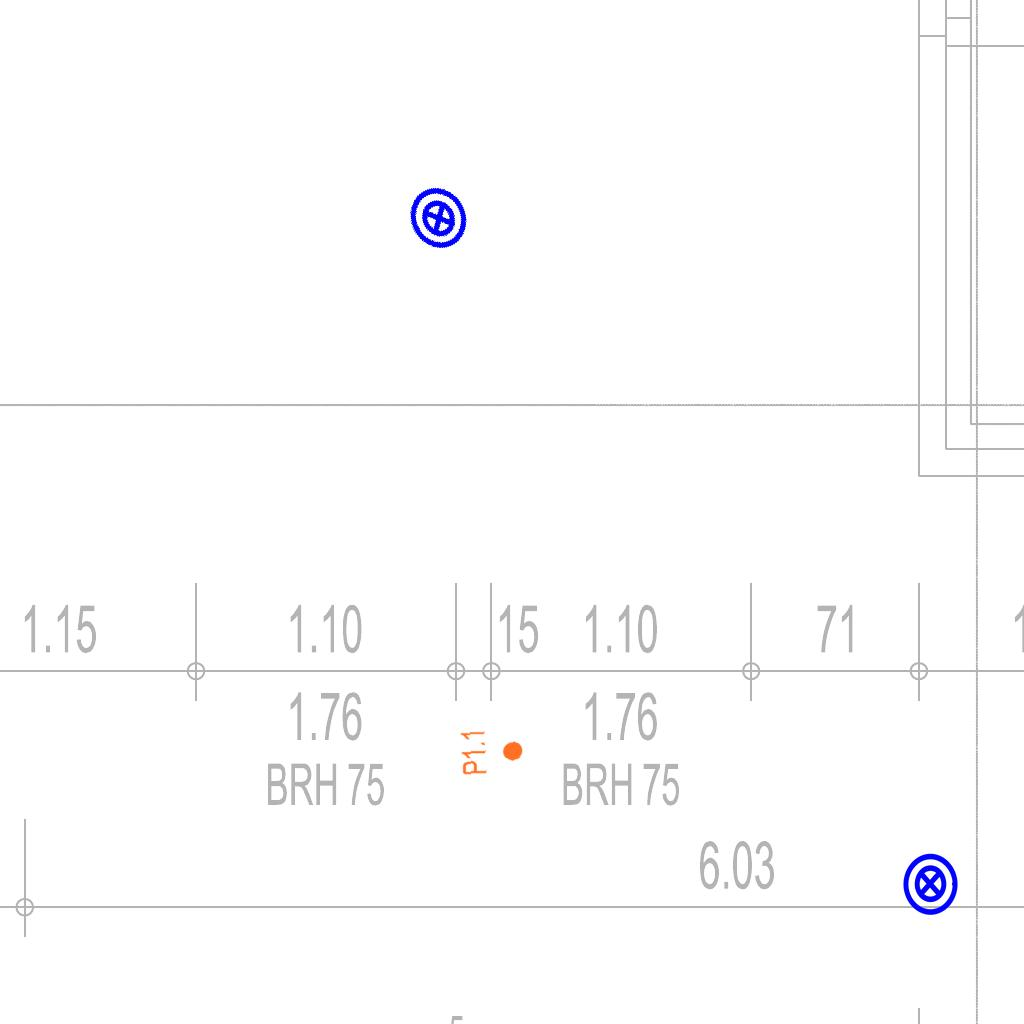Downlight_LED_Einbauleuchten_Flur: (458, 725, 526, 777)
Taster_beleuchtet: (394, 173, 484, 263), (897, 851, 963, 917)
